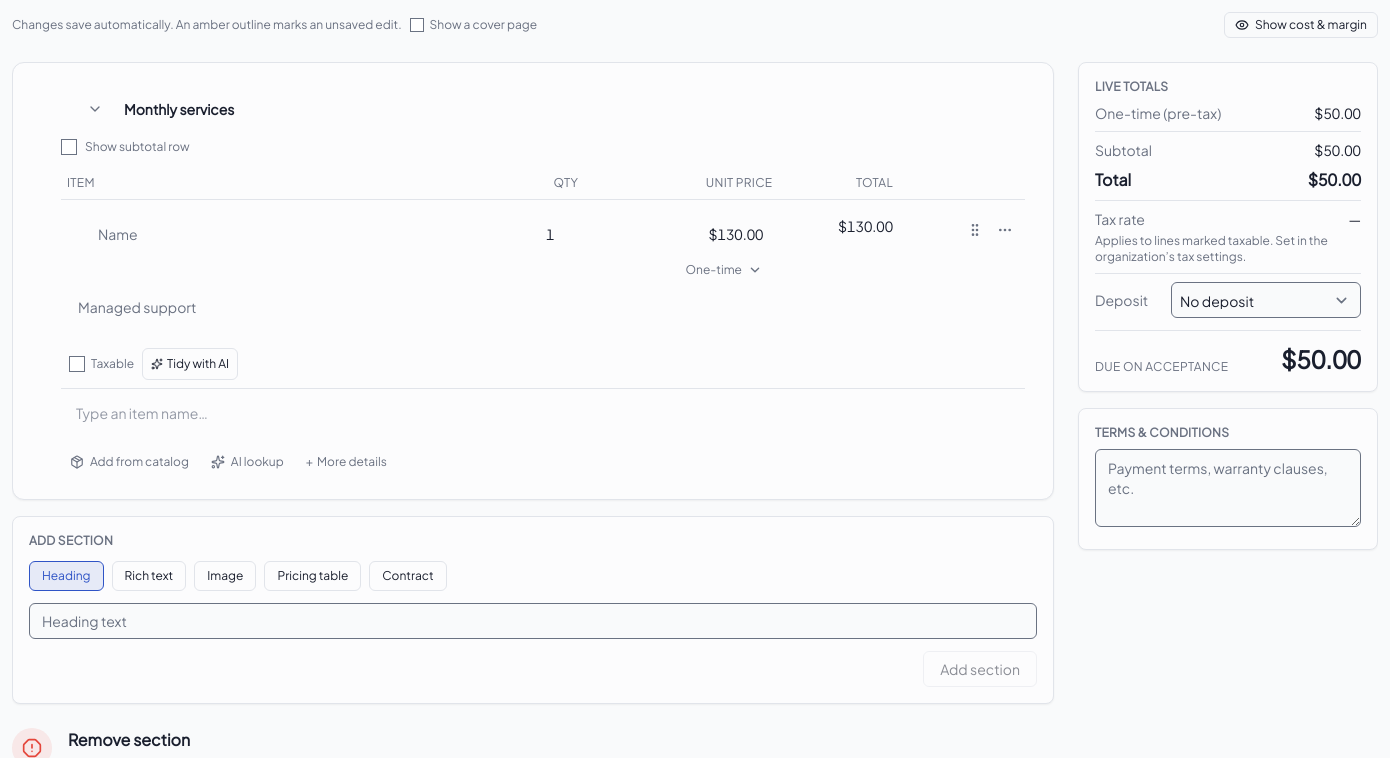
Test case: QuoteEditor — explicit "no cost" designation (Task B1) › collapsed summary reads "No cost · Profit $X" (not "Cost $0.00") and drops the Markup segment
The image size is (1390, 758).
Step 1. Click the button with test id "quote-editor-toggle-internal" → coordinates (1301, 25), box top-left (1224, 12), bottom-right (1378, 38)
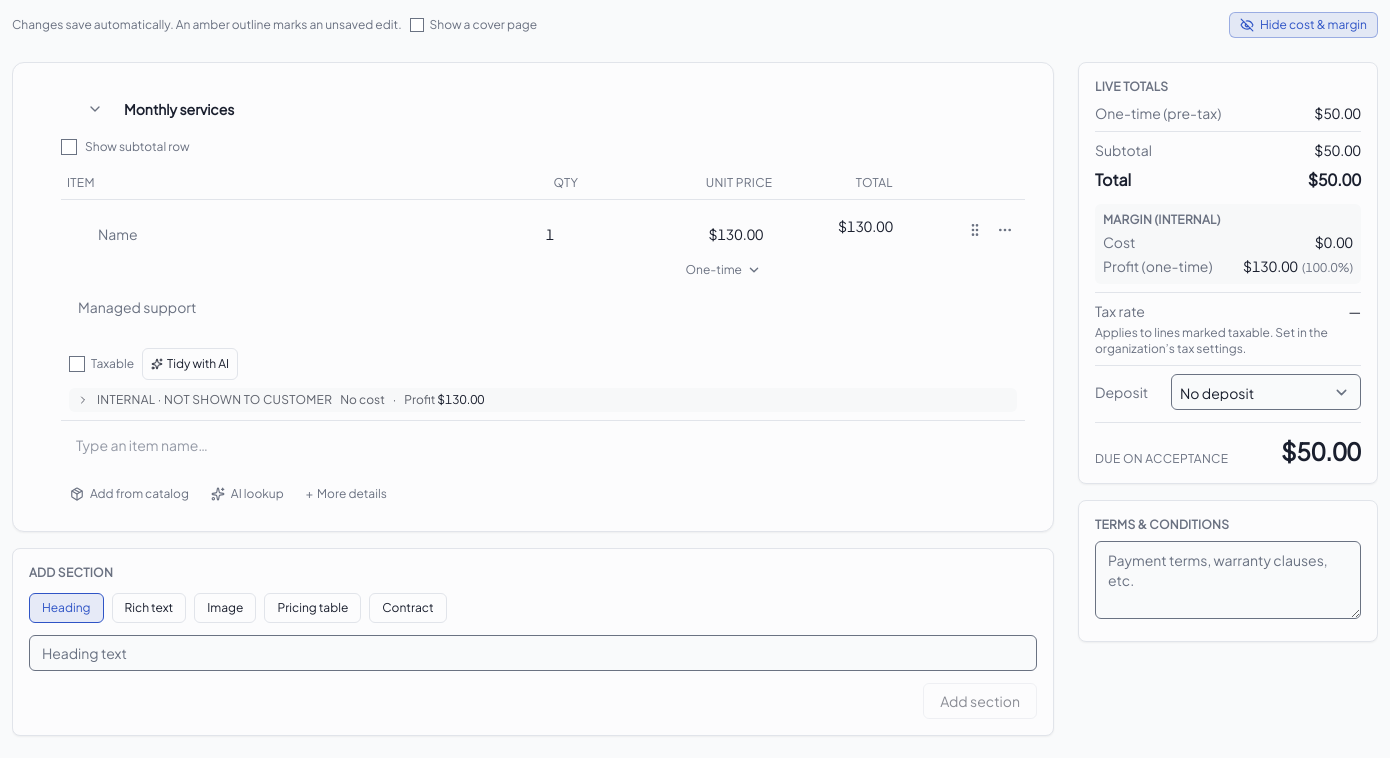
expect the element with test id "quote-line-internal-summary-line-1" does not show "Cost $0.00": met
expect the element with test id "quote-line-internal-summary-line-1" shows "No cost": met, box top-left (340, 392), bottom-right (385, 407)
expect the element with test id "quote-line-internal-summary-line-1" shows "Profit $130.00": met, box top-left (340, 392), bottom-right (485, 407)
